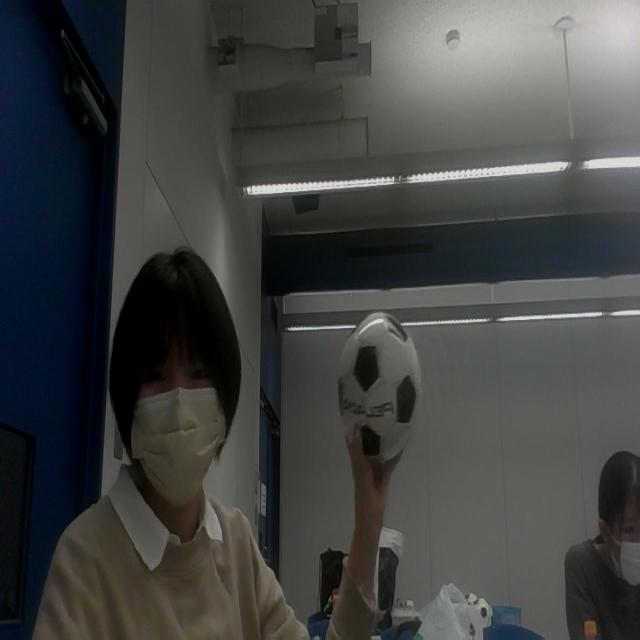Soccer Ball: (338, 311, 421, 467)
